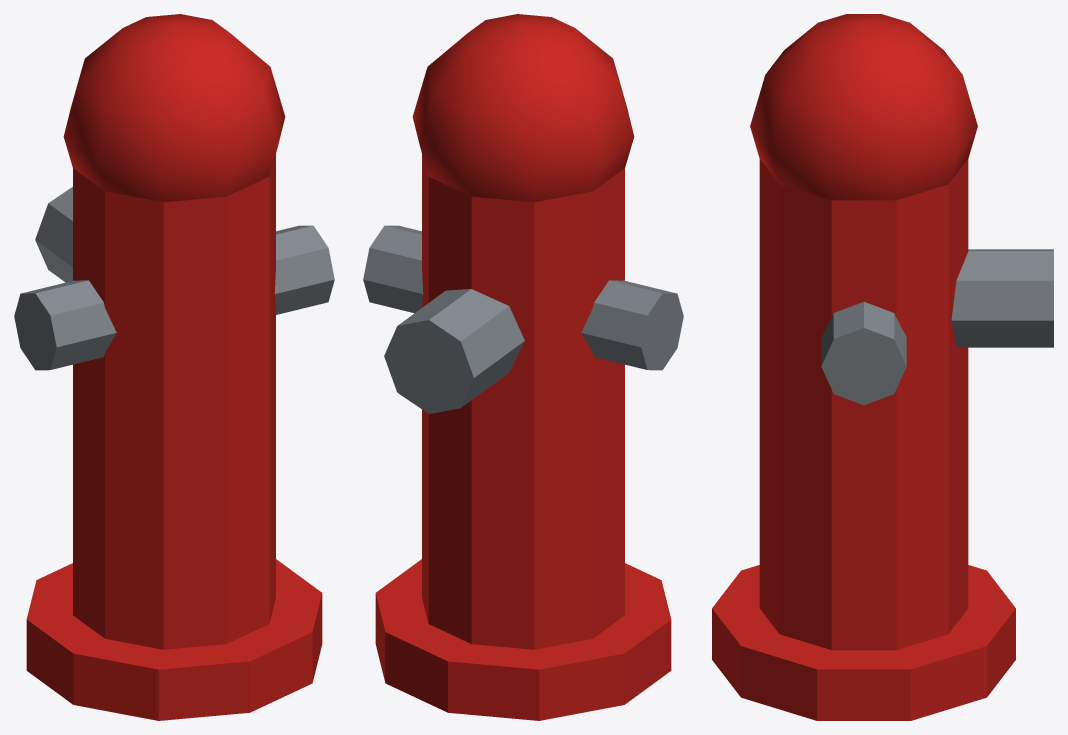
File: hidrante.glb
3 renders of one model, left to right at view 1: azimuth 30°, elevation 25°; view 2: azimuth 150°, elevation 25°; view 3: azimuth 270°, elevation 25°, orthographic.
Parts seen in each view (by area): view 1: hidrante_corpo; view 2: hidrante_corpo; view 3: hidrante_corpo.
Boxes of the visible parts, x1=… form: hidrante_corpo: x1=14, y1=14, x2=334, y2=720; hidrante_corpo: x1=363, y1=14, x2=683, y2=720; hidrante_corpo: x1=712, y1=14, x2=1053, y2=720.
Size of the model in its own units: 0.34 by 0.74 by 0.36.
